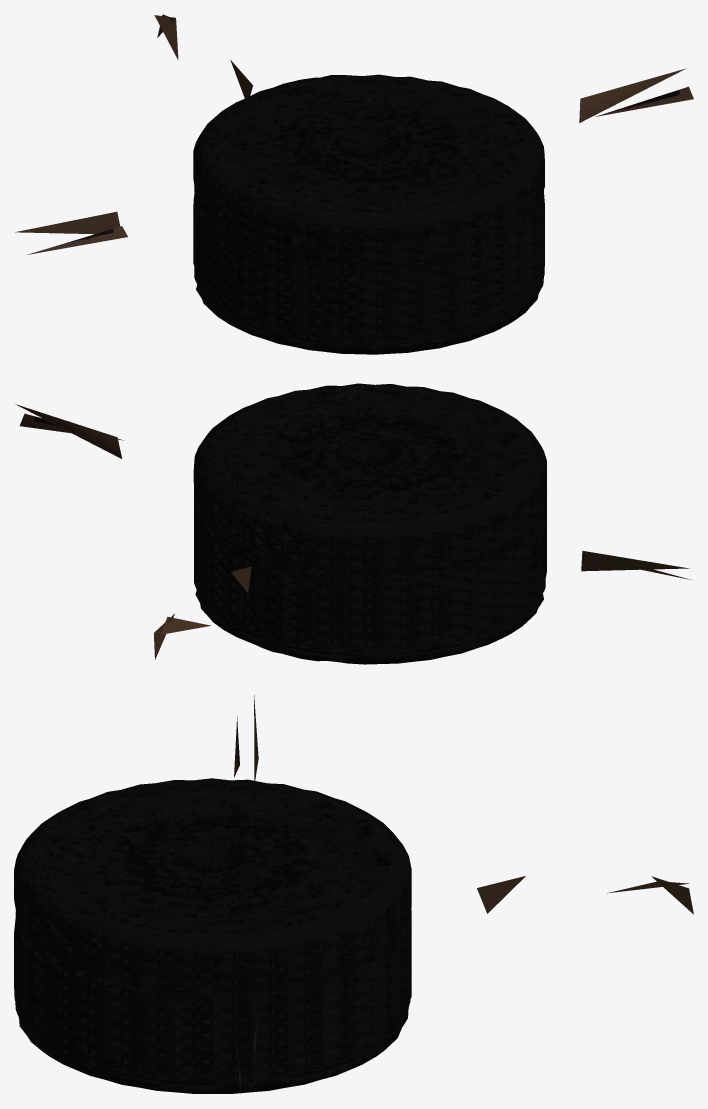
The model's file is sofa_sectional.glb.
The picture shows the model from 3 angles, top to bottom: view 1: azimuth 30°, elevation 25°; view 2: azimuth 150°, elevation 25°; view 3: azimuth 270°, elevation 25°; orthographic projection. The views are drawn at different scales.
Parts seen in each view (by area): view 1: Corner sofa set with table.001; view 2: Corner sofa set with table.001; view 3: Corner sofa set with table.001.
Boxes of the visible parts, x1,y1,x2,y2 form: Corner sofa set with table.001: (15,14,693,354); Corner sofa set with table.001: (15,383,690,664); Corner sofa set with table.001: (14,695,693,1093).
Bounding box in the file's own units: 1.7 × 0.343 × 1.32.
2 materials, 1 textured.
